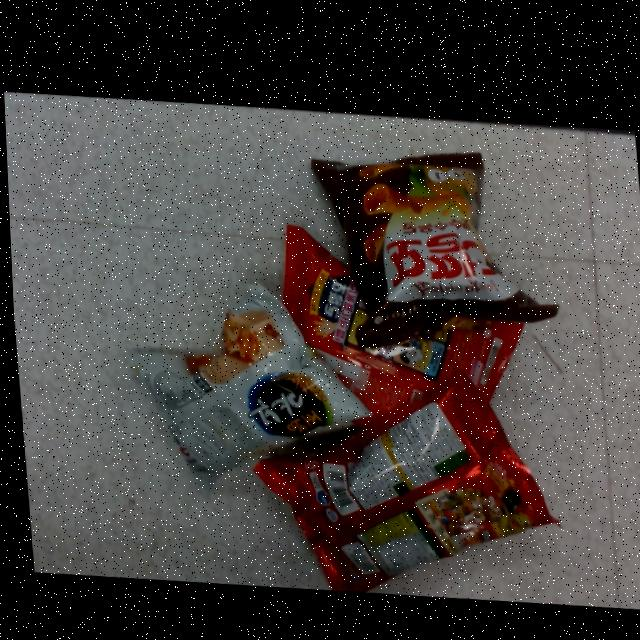bongji: (250, 364, 553, 585), (266, 217, 522, 430), (309, 143, 554, 340), (124, 279, 364, 477)
